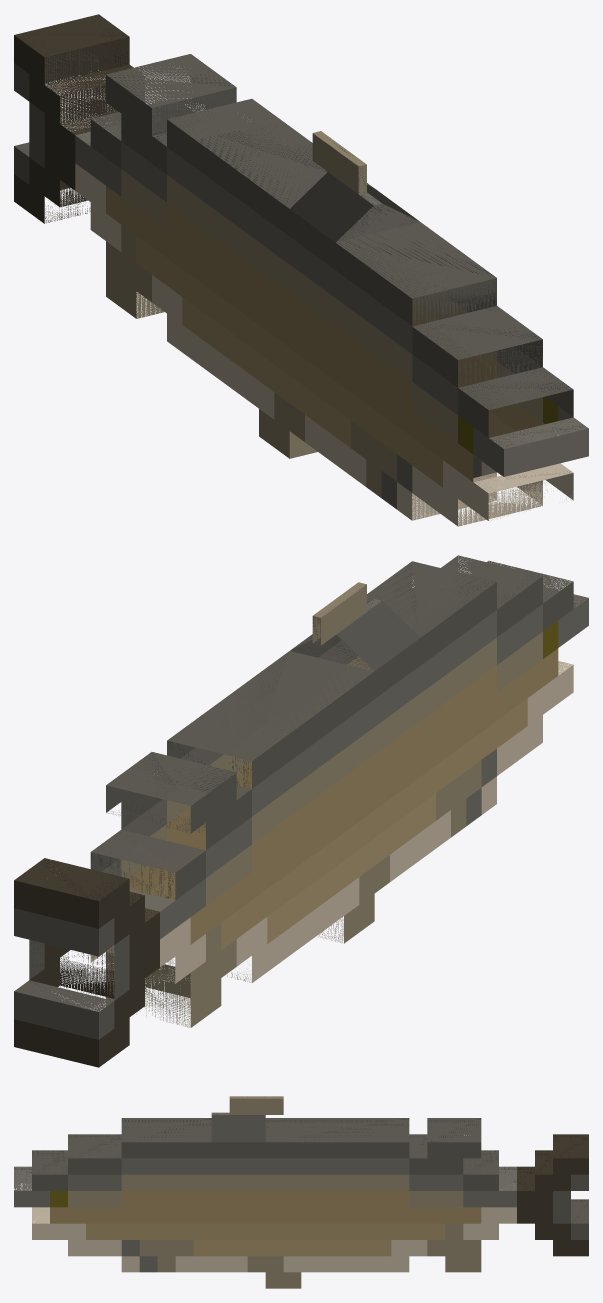
Rendered from salmon.glb.
The picture shows the model from 3 angles, top to bottom: view 1: azimuth 30°, elevation 25°; view 2: azimuth 150°, elevation 25°; view 3: azimuth 270°, elevation 25°; orthographic projection. The views are drawn at different scales.
Visible parts, largest first — view 1: salmon; view 2: salmon; view 3: salmon.
Part boxes in pixels (left/top/right/bottom): salmon: left=14, top=14, right=588, bottom=526; salmon: left=14, top=555, right=588, bottom=1067; salmon: left=14, top=1096, right=588, bottom=1288.
Size of the model in its own units: 0.2 by 0.6875 by 2.
Materials: 1 (1 with a texture image).
